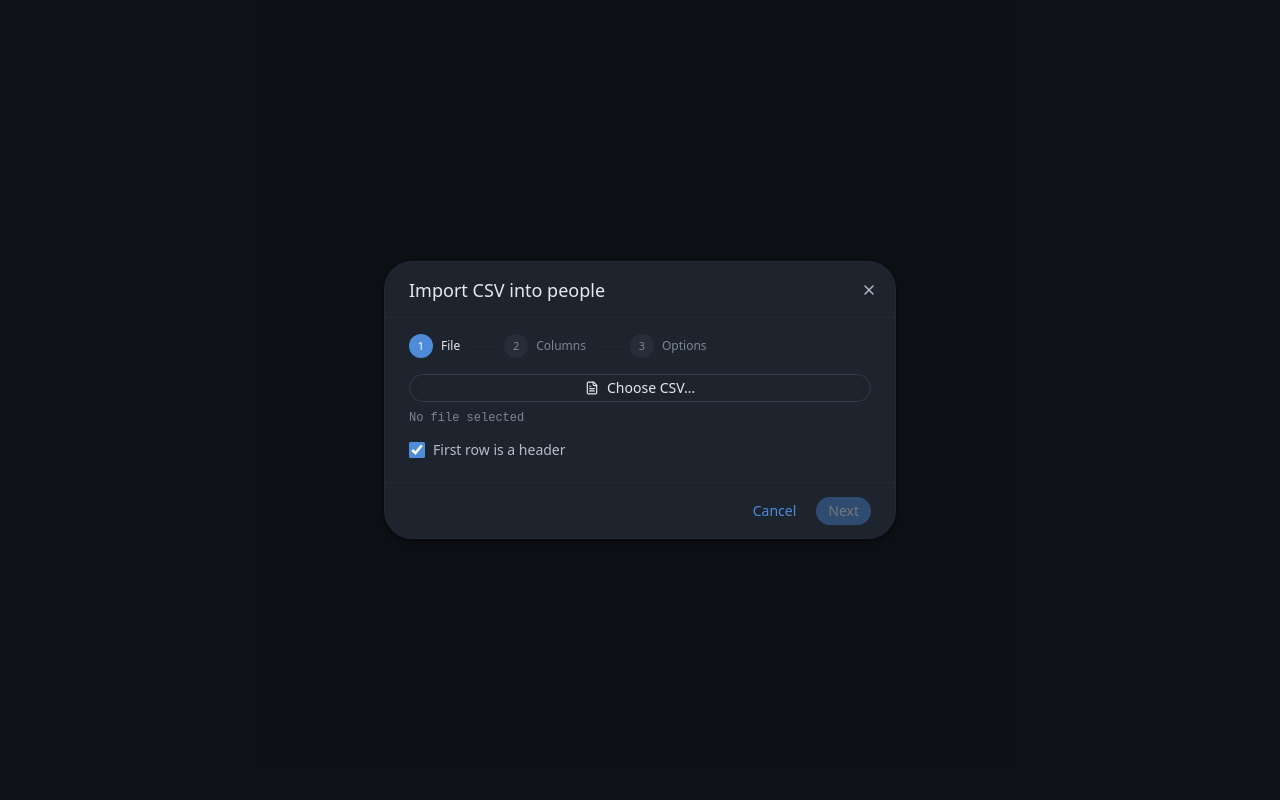
ImportWizard › maps by position when the first row is not a header
The width and height of the screenshot is (1280, 800).
Click the button "Choose CSV…" at (640, 388), box [409, 374, 871, 402]
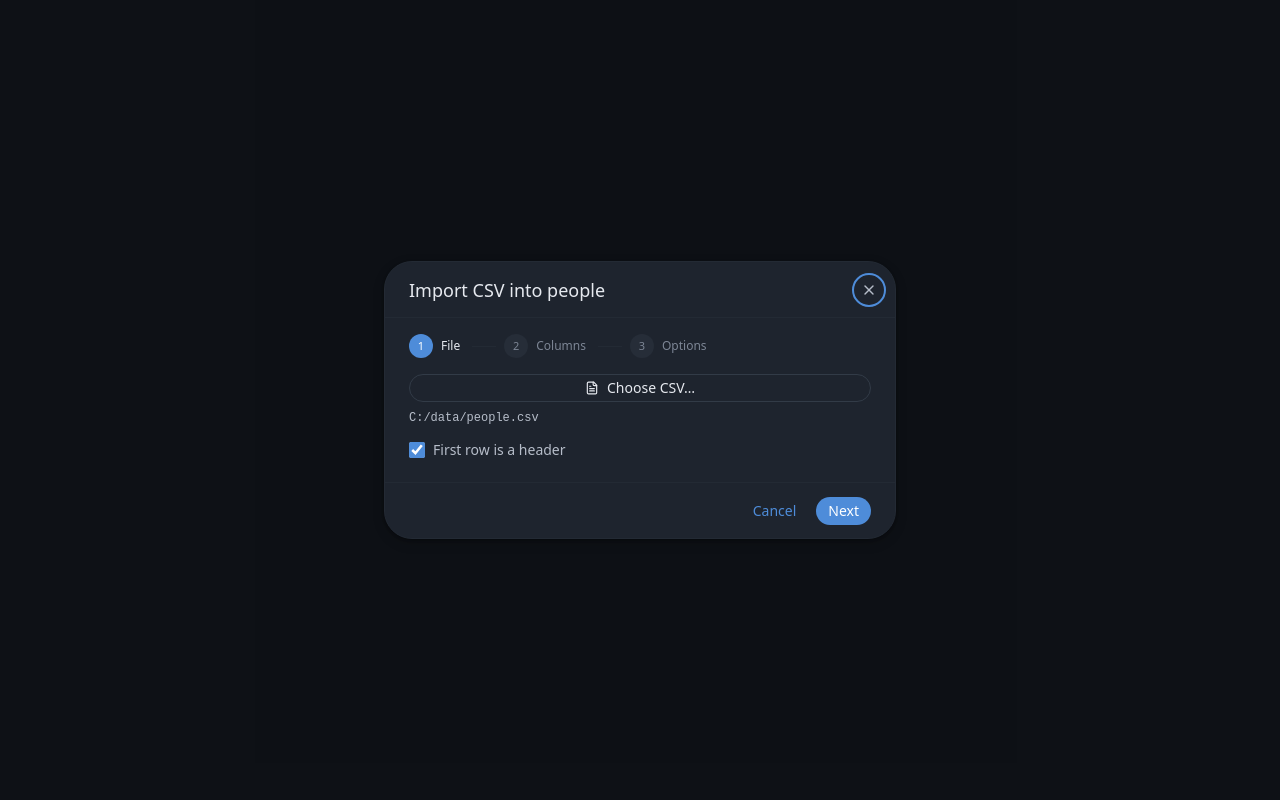
Now the text "C:/data/people.csv" is shown, box [409, 411, 539, 425]
Click the checkbox labelled "First row is a header" at (417, 450), box [409, 442, 425, 458]
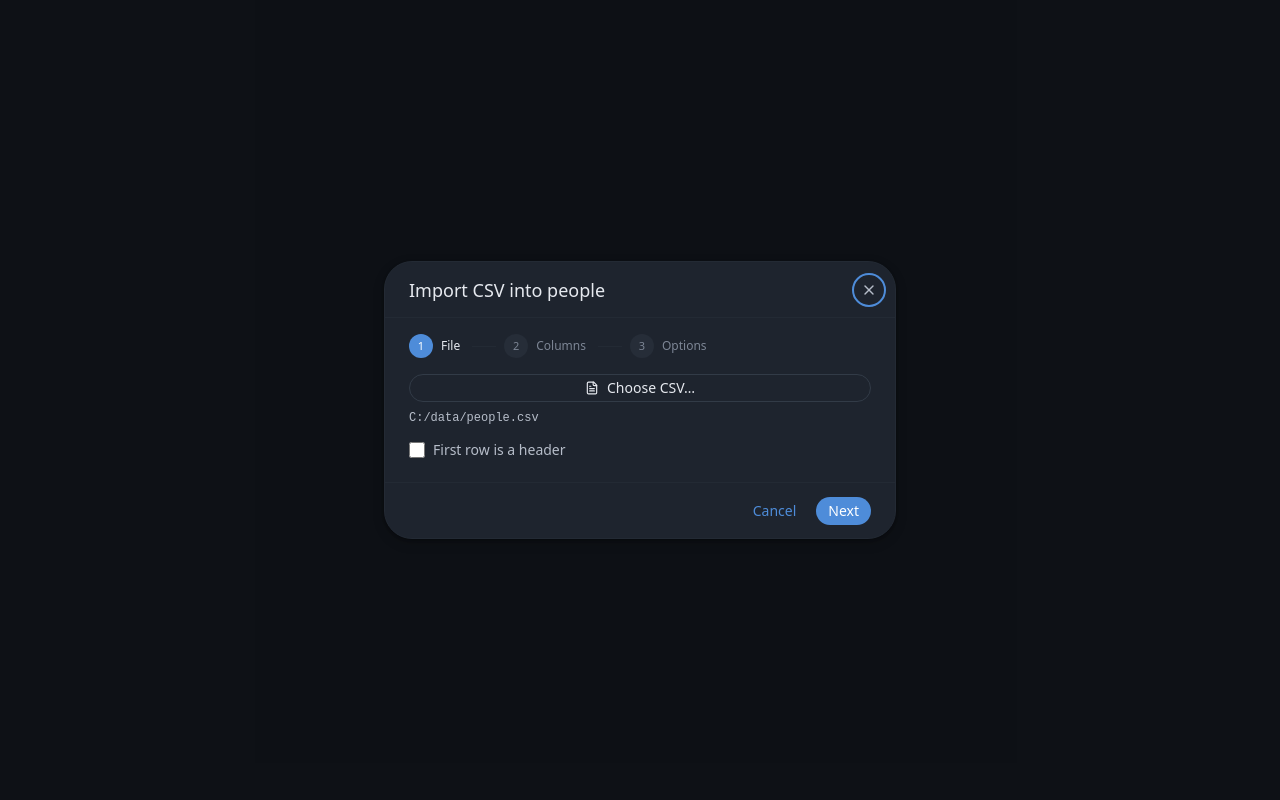
Click the button "Next" at (844, 510), box [816, 496, 871, 524]
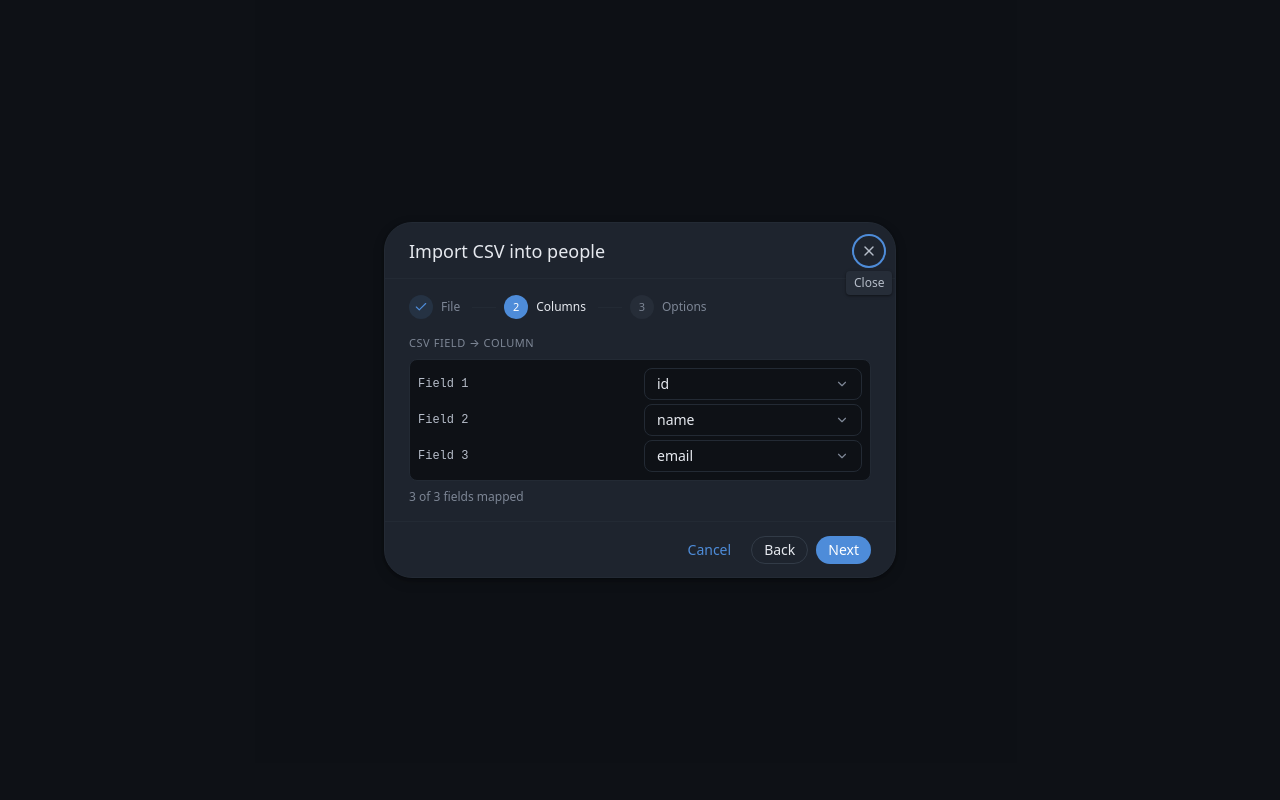
Now the text "3 of 3 fields mapped" is shown, box [409, 488, 524, 505]
Now the button with aria-label "Column for field 2" reads "name", box [644, 404, 862, 436]
